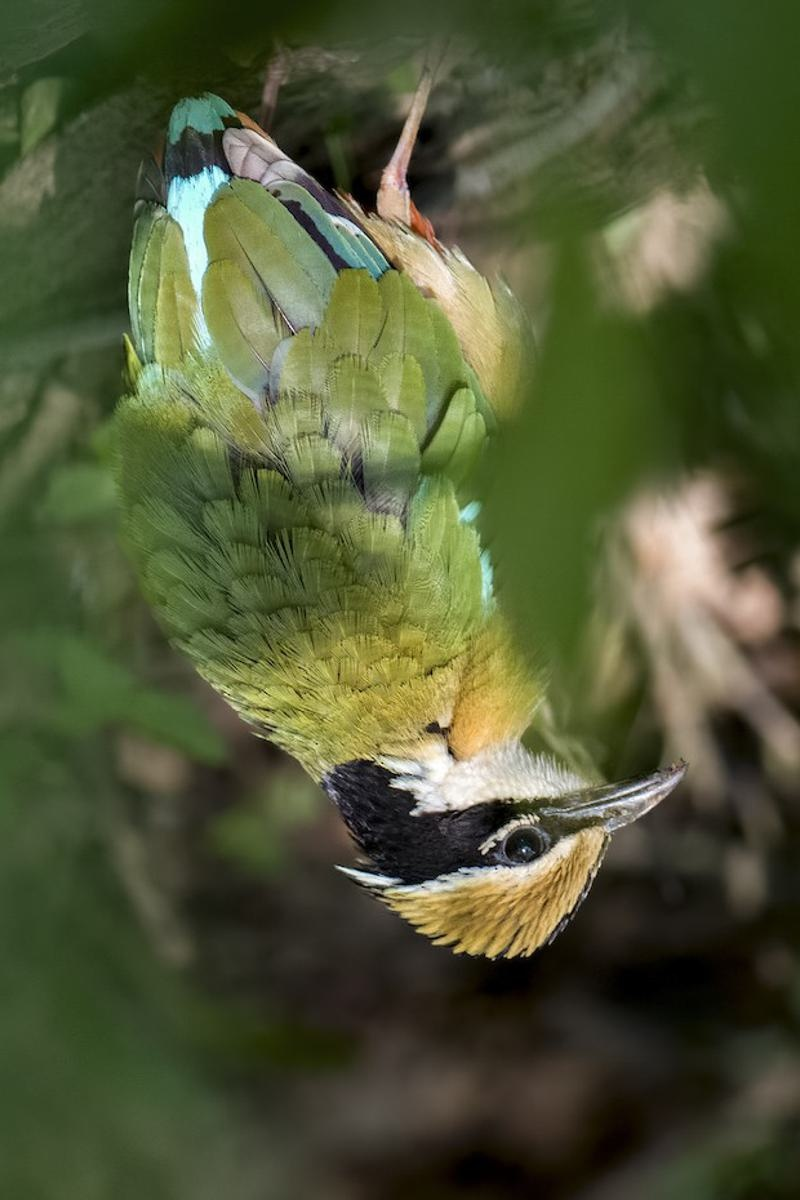pitta: (133, 118, 674, 957)
